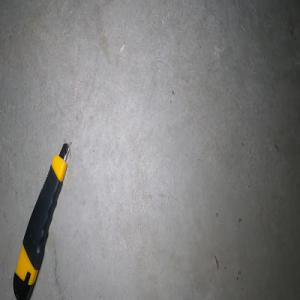Cutter: (12, 142, 70, 300)
